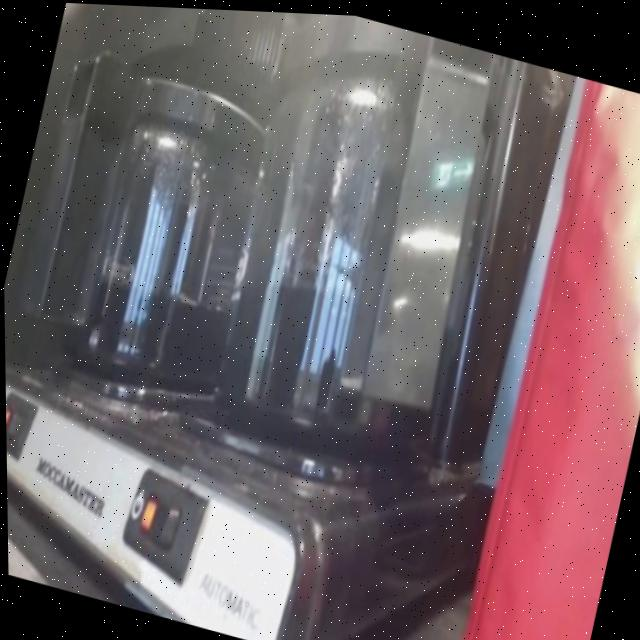coffee: (205, 95, 482, 452), (60, 141, 250, 393)
